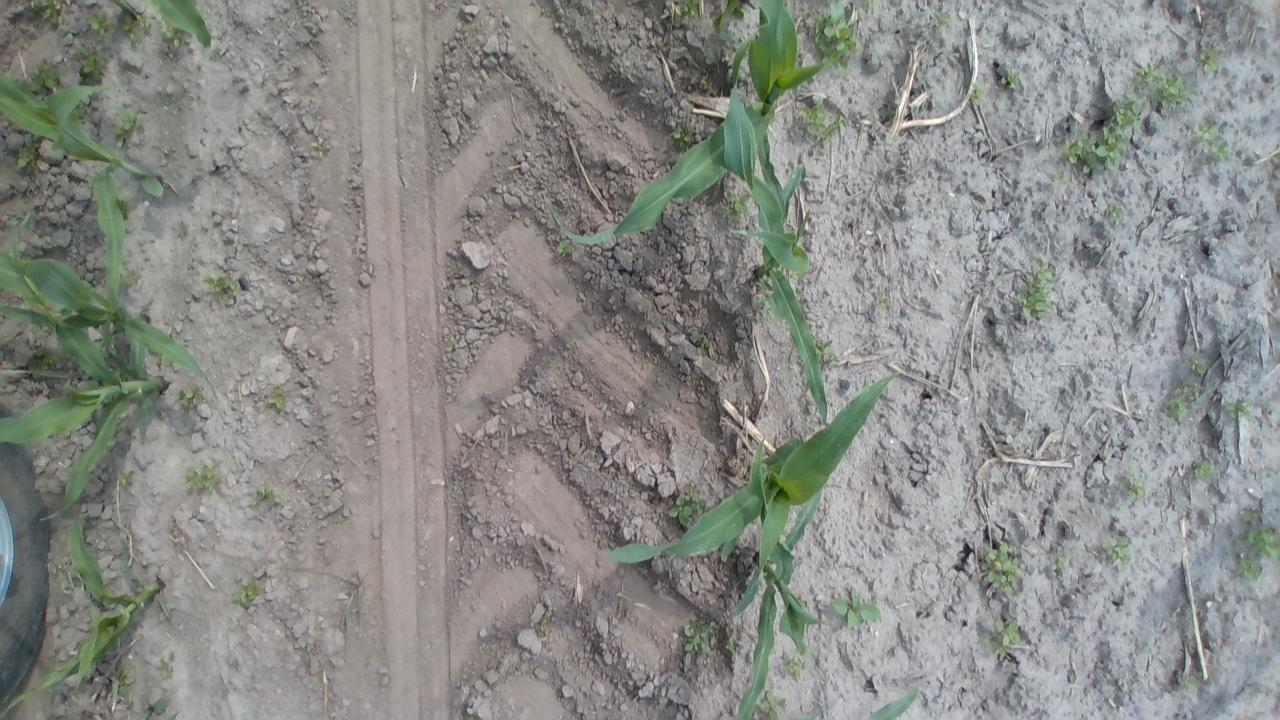Maize: (594, 368, 908, 619), (540, 0, 855, 249), (0, 165, 223, 403), (1, 244, 174, 527), (0, 73, 168, 358), (722, 1, 833, 431), (0, 515, 164, 720), (723, 435, 829, 719), (109, 1, 214, 50)
Weeds: (1057, 120, 1136, 174), (810, 1, 859, 70), (1238, 508, 1280, 586), (1129, 65, 1194, 111), (980, 541, 1026, 599), (828, 586, 882, 632), (1018, 260, 1056, 322), (1192, 118, 1234, 162), (798, 104, 848, 140), (981, 616, 1024, 656), (678, 618, 718, 660), (1163, 381, 1205, 421), (666, 488, 706, 528), (184, 461, 226, 498), (202, 270, 246, 305), (1100, 532, 1136, 570), (115, 6, 153, 42), (23, 61, 58, 98), (148, 22, 190, 51), (1108, 93, 1142, 128), (113, 110, 144, 148), (228, 579, 264, 611), (23, 0, 65, 26), (75, 50, 106, 84), (1120, 471, 1148, 505), (138, 695, 176, 720), (111, 662, 136, 698), (722, 191, 752, 221), (756, 691, 789, 718), (532, 604, 556, 640), (248, 485, 283, 509), (1226, 396, 1257, 423), (17, 138, 44, 168), (1198, 46, 1224, 75), (814, 338, 840, 366), (1182, 354, 1210, 380), (27, 352, 61, 373), (264, 388, 290, 413), (86, 11, 112, 36), (784, 652, 806, 681), (1001, 67, 1026, 92), (118, 266, 141, 293), (671, 124, 694, 151), (674, 0, 702, 22), (754, 295, 777, 321), (180, 383, 203, 409), (1191, 458, 1214, 482), (1047, 551, 1071, 574), (157, 653, 176, 681), (696, 335, 718, 359), (721, 625, 738, 656), (311, 132, 331, 158), (931, 10, 954, 30), (872, 291, 892, 313), (1106, 202, 1129, 221), (969, 86, 988, 108), (1181, 675, 1203, 692), (444, 334, 464, 352), (116, 468, 134, 487), (173, 220, 190, 240), (556, 238, 573, 258), (208, 45, 224, 62)
